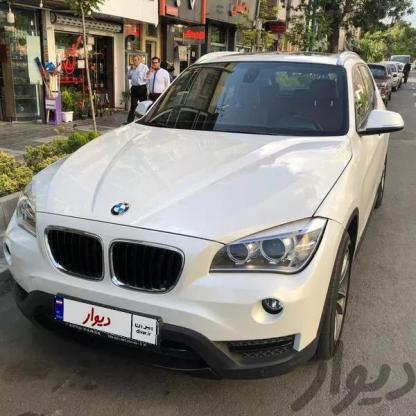Car: (0, 50, 390, 376), (354, 58, 406, 112), (390, 59, 407, 88)
